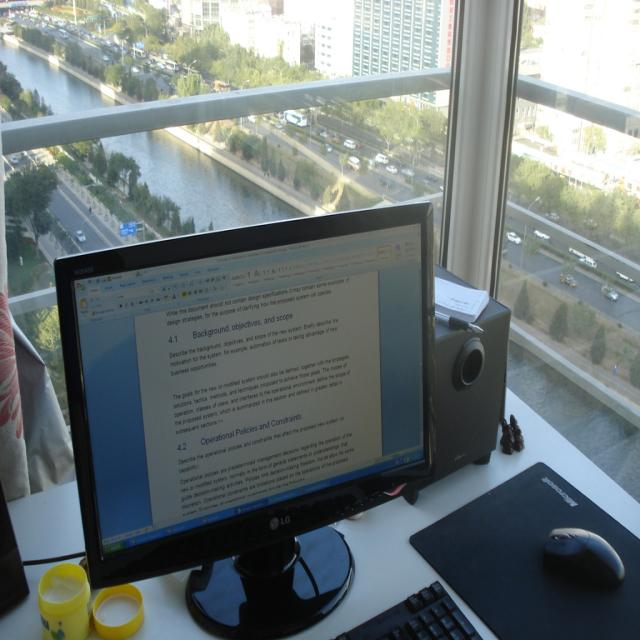Computer-mouse: (547, 531, 623, 590)
